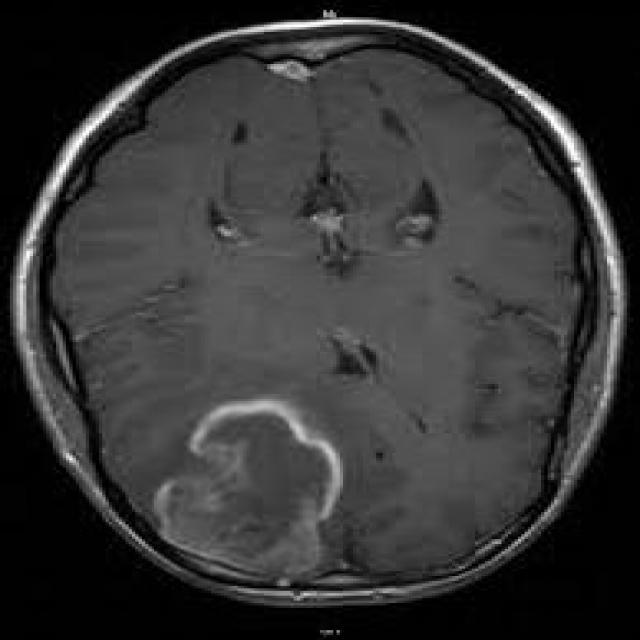Tumor: (155, 402, 339, 583)
